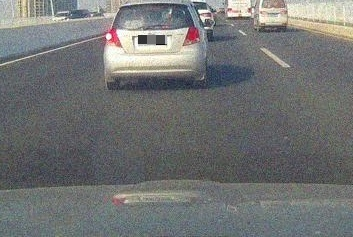L_light: (105, 27, 123, 48)
R_light: (182, 24, 201, 46)
T_light: (148, 2, 161, 7)
day-left: (104, 0, 208, 89)
plate_1: (138, 35, 167, 45)
